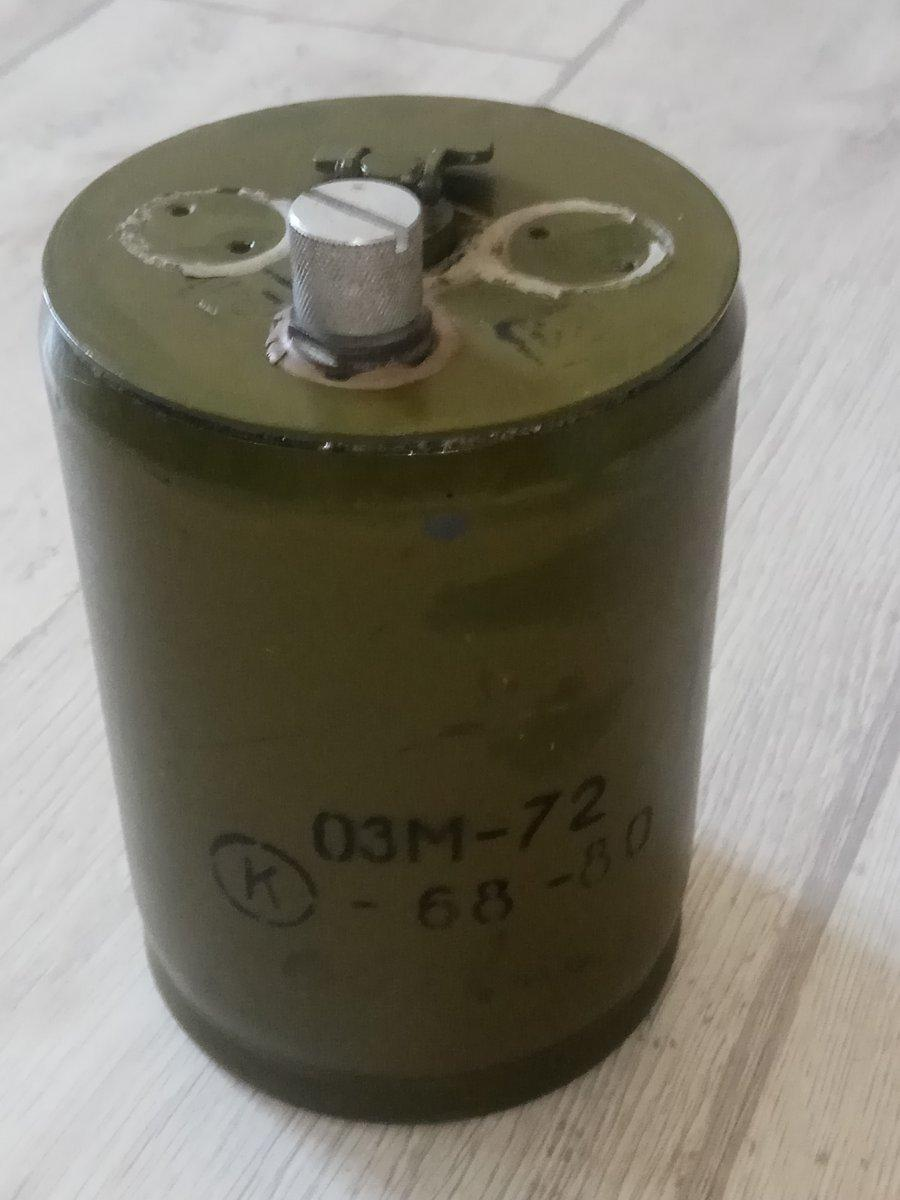OZM 72: (34, 90, 745, 1130)
